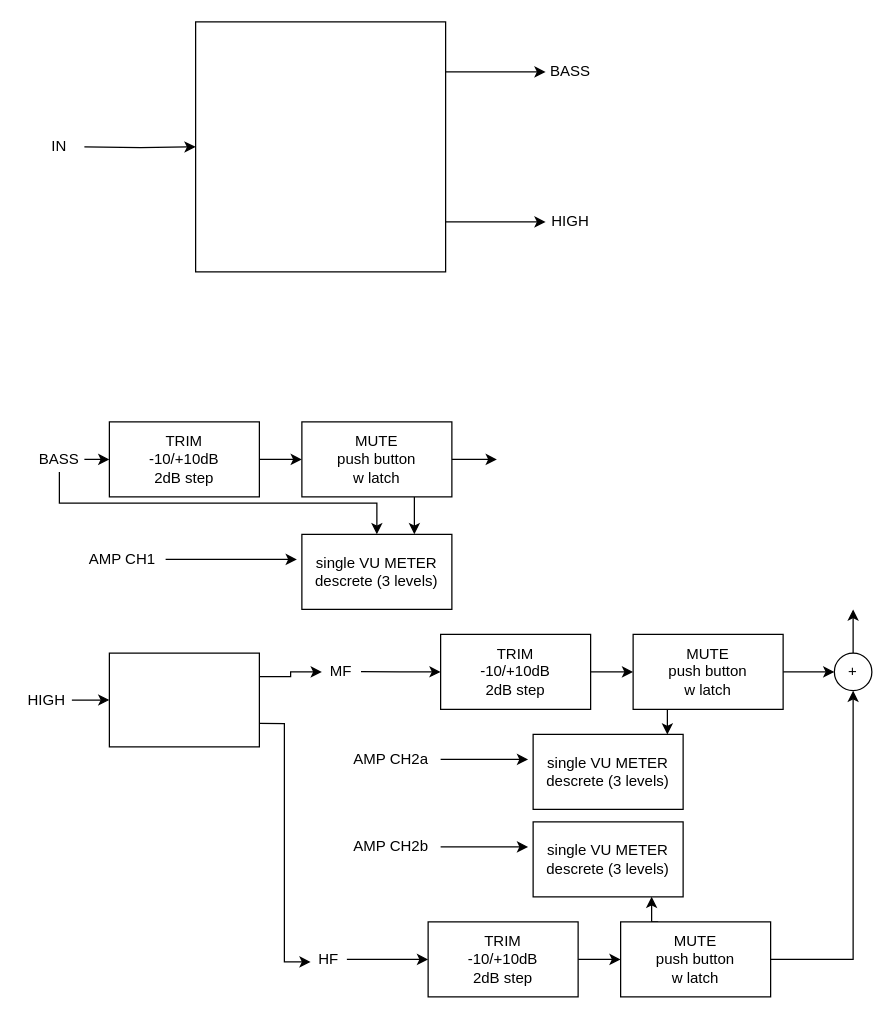
Image size: 894x1019. Some labels were removed from this diagram. The box of each missing label's shape, as (x1, y1, x2, y2) in pixels:
DSP: (194, 21, 446, 272)
XOVER: (108, 652, 259, 747)
